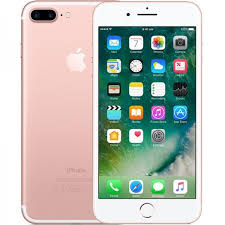iphone: (89, 1, 203, 225)
iphone7: (89, 1, 203, 225)
